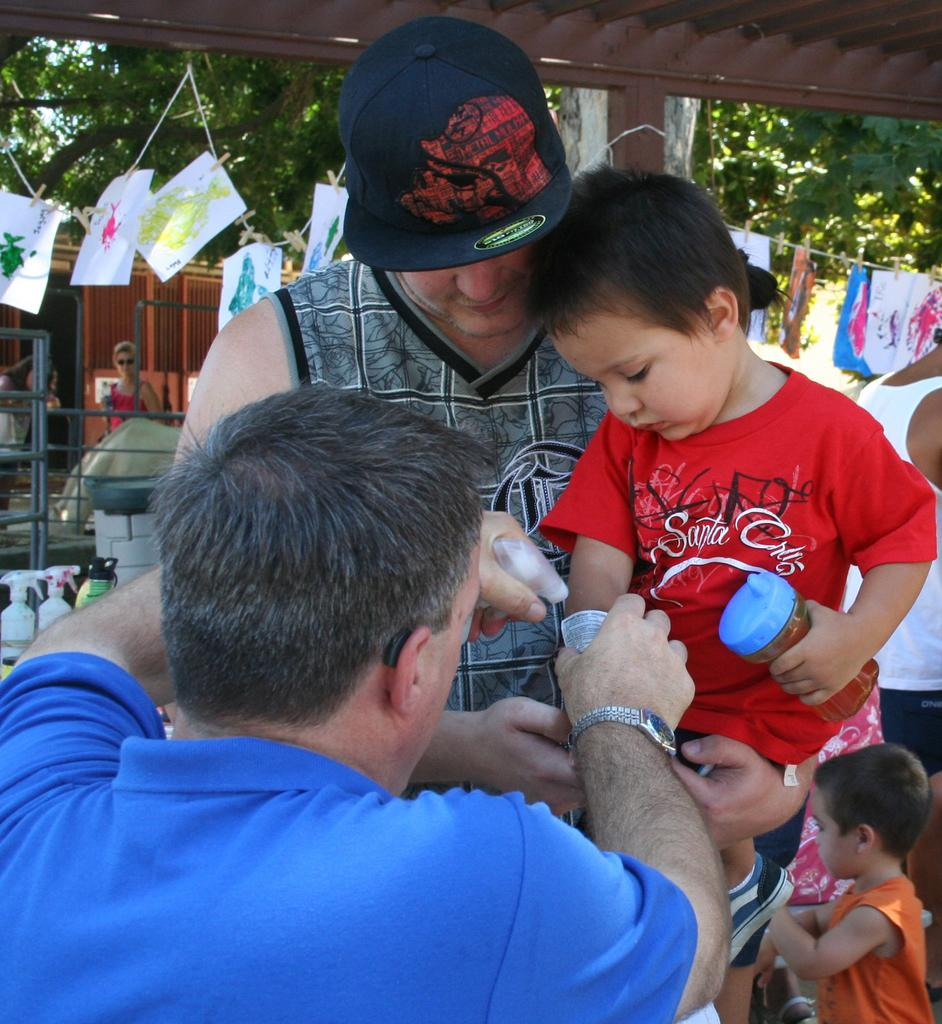Sem Máscara: (544, 307, 733, 440), (397, 524, 477, 791), (399, 237, 525, 335), (808, 782, 859, 876)
